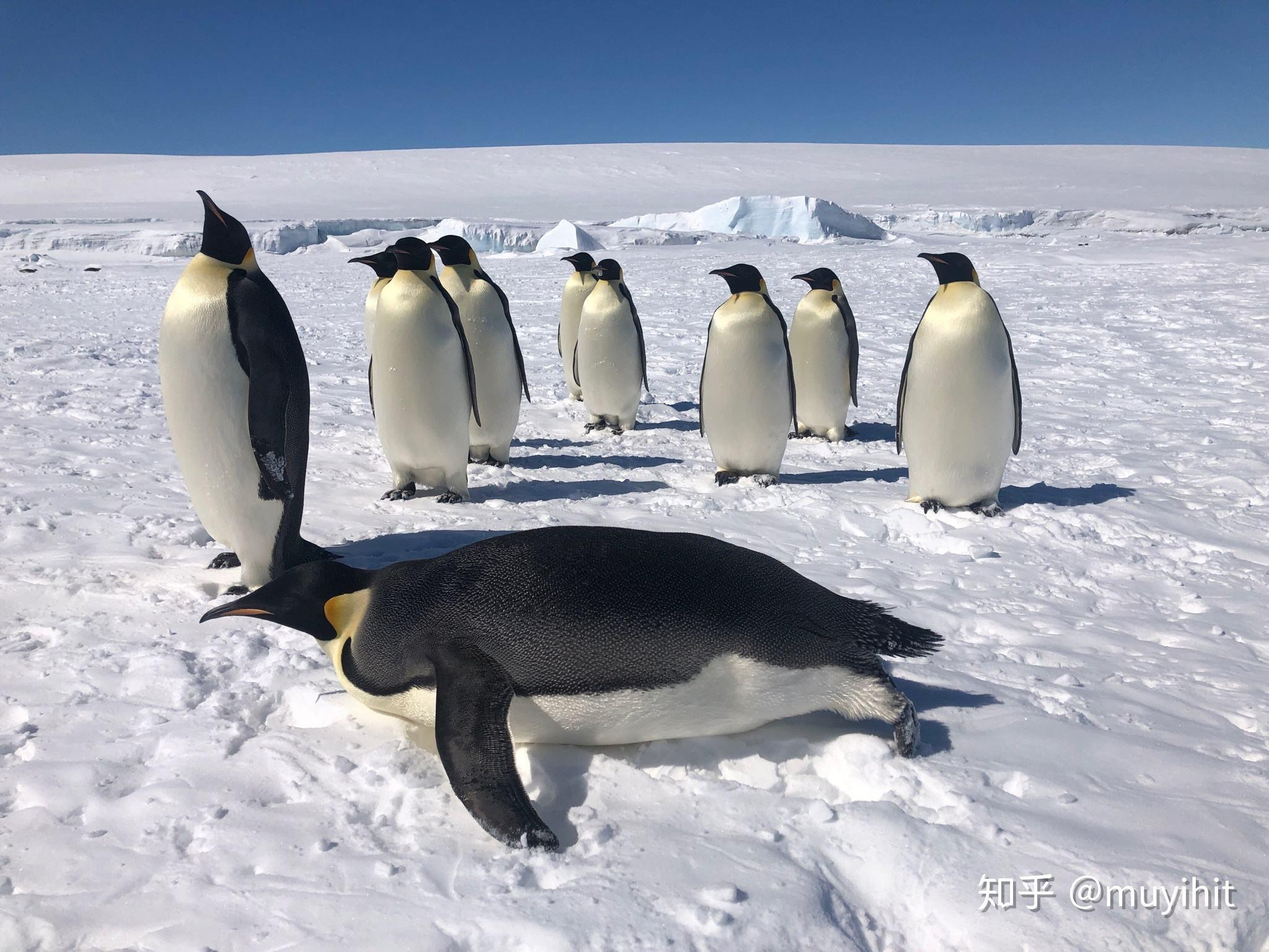Penguin: (203, 526, 942, 848), (159, 191, 335, 594), (897, 253, 1022, 518), (368, 236, 482, 503), (429, 236, 530, 465), (699, 263, 799, 486), (573, 258, 649, 436), (788, 268, 859, 441), (558, 252, 597, 402), (349, 250, 399, 355)
